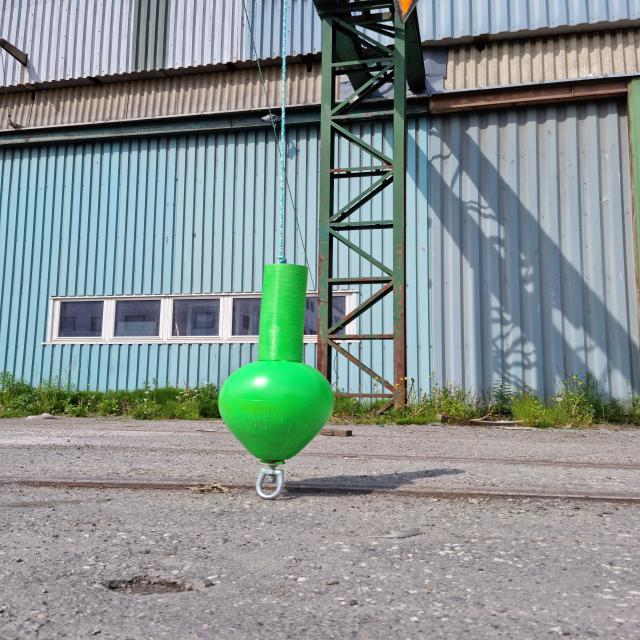green: (219, 262, 334, 460)
